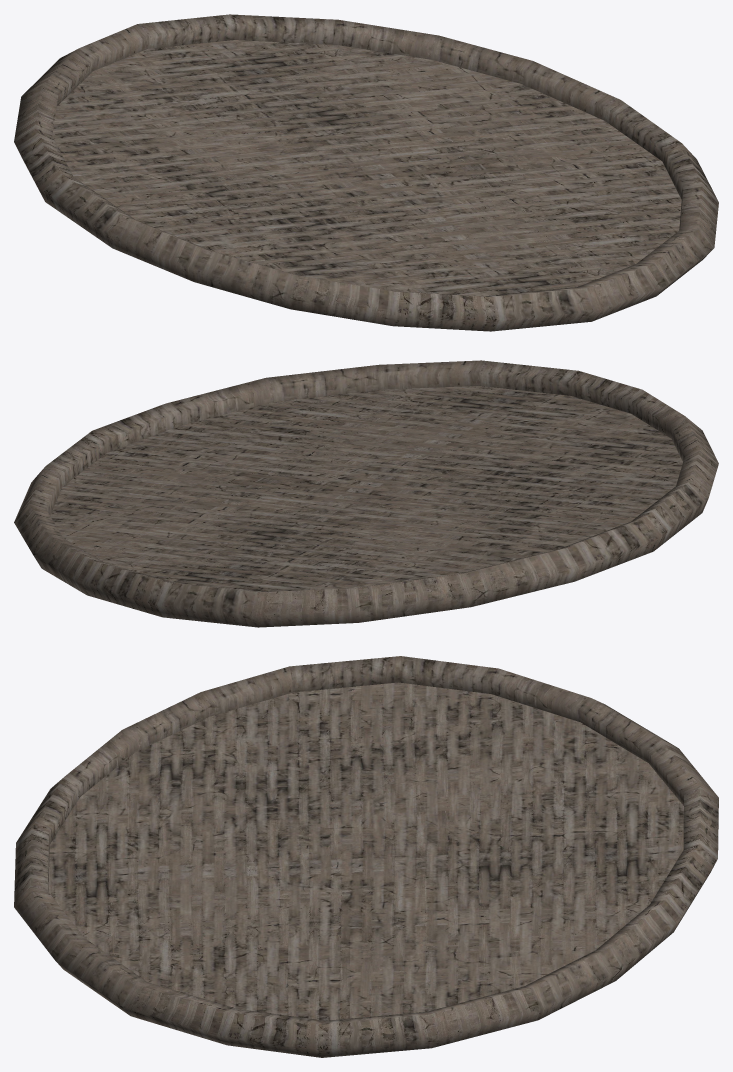
The model's file is Wicker_Basket_01_2.glb.
3 views of the same model, one above another, from view 1: azimuth 30°, elevation 25°; view 2: azimuth 150°, elevation 25°; view 3: azimuth 270°, elevation 25° (orthographic).
Visible parts, largest first — view 1: Wicker_Basket_01.009; view 2: Wicker_Basket_01.009; view 3: Wicker_Basket_01.009.
Boxes of the visible parts, <box> form: Wicker_Basket_01.009: <box>14,14,718,331</box>; Wicker_Basket_01.009: <box>14,360,718,627</box>; Wicker_Basket_01.009: <box>14,656,718,1057</box>.
Size of the model in its own units: 0.7305 by 0.1332 by 0.7286.
1 material, 1 textured.
